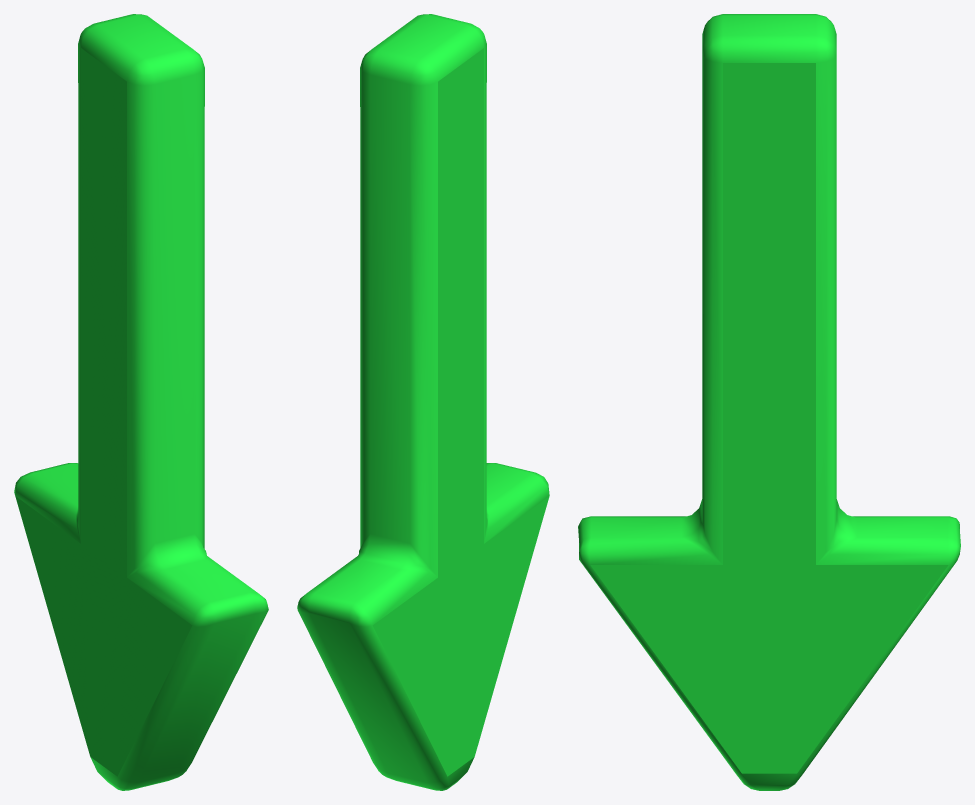
File: Strela.fbx
3 renders of one model, left to right at view 1: azimuth 30°, elevation 25°; view 2: azimuth 150°, elevation 25°; view 3: azimuth 270°, elevation 25°, orthographic.
Visible parts, largest first — view 1: Plane.002; view 2: Plane.002; view 3: Plane.002.
Part boxes in pixels (x1,y1,x2,y2): Plane.002: (14,14,268,790); Plane.002: (297,14,549,790); Plane.002: (578,14,960,790).
Bounding box in the file's own units: 0.0527 × 0.4994 × 0.2296.
